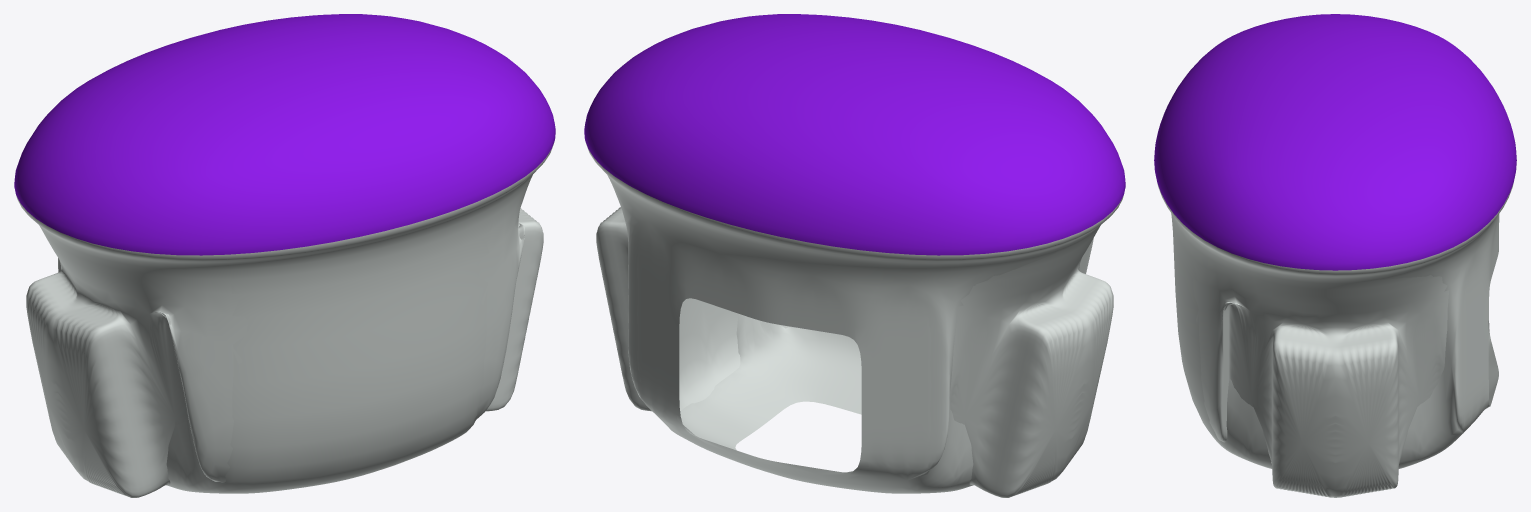
File: huriza.fbx
3 views of the same model, side by side, from view 1: azimuth 30°, elevation 25°; view 2: azimuth 150°, elevation 25°; view 3: azimuth 270°, elevation 25° (orthographic). The views are drawn at different scales.
Parts seen in each view (by area): view 1: Cube; view 2: Cube; view 3: Cube.
Boxes of the visible parts, box(x1,y1,x2,y2) form: Cube: box(14, 14, 555, 497); Cube: box(584, 14, 1125, 497); Cube: box(1154, 14, 1516, 497).
Size of the model in its own units: 531 by 405 by 369.
